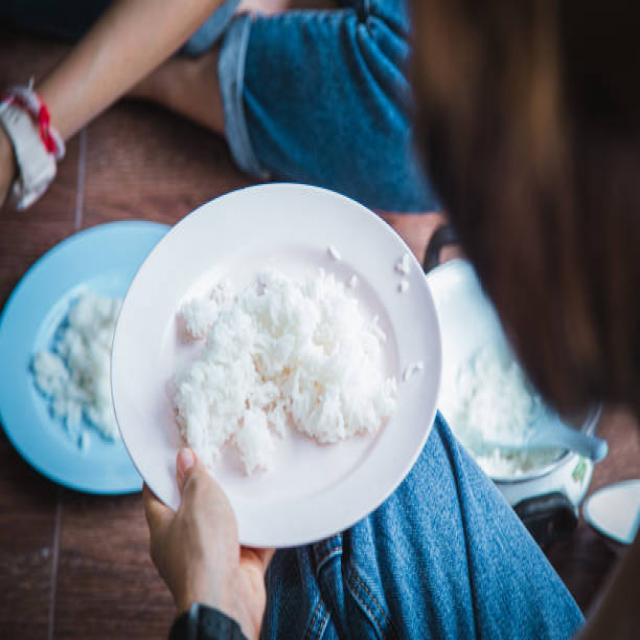rice: (175, 247, 422, 474), (29, 284, 122, 450)
